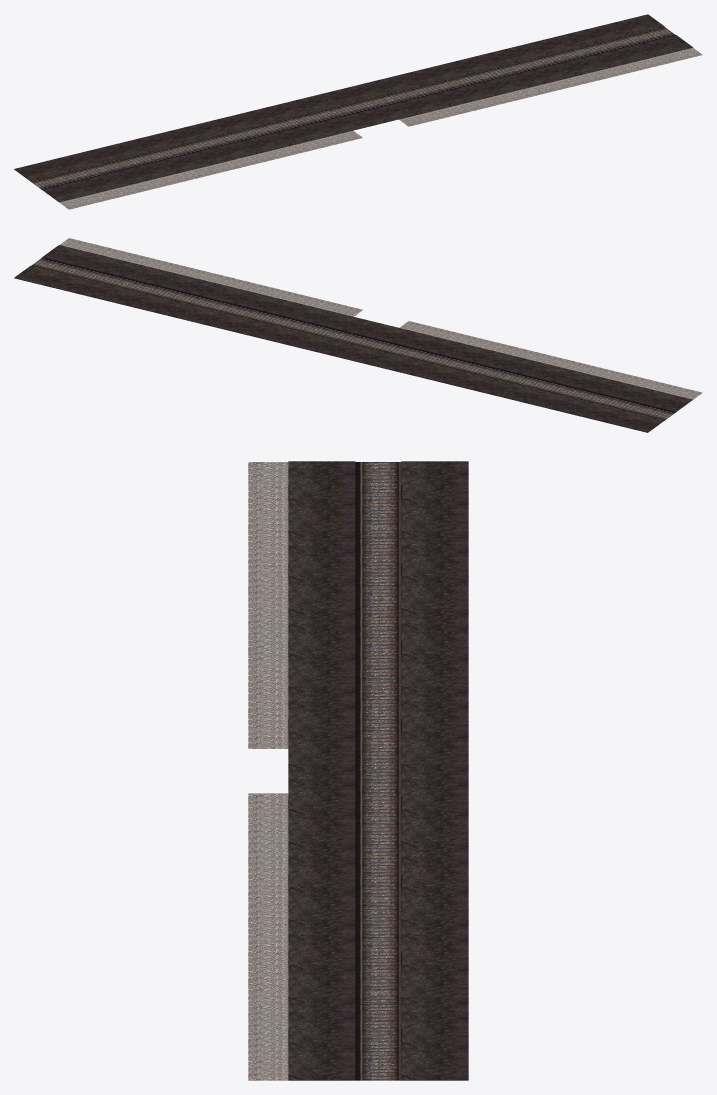
File: platform.obj
3 renders of one model, top to bottom at view 1: azimuth 30°, elevation 25°; view 2: azimuth 150°, elevation 25°; view 3: azimuth 270°, elevation 25°, orthographic. The views are drawn at different scales.
Size of the model in its own units: 87.99 by 0.0545 by 13.22.
Materials: 1 (1 with a texture image).
